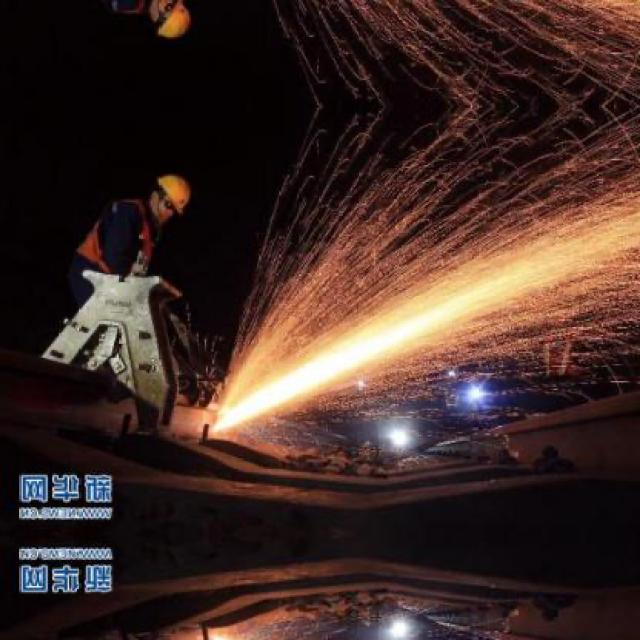helmet: (143, 171, 195, 221), (142, 0, 196, 43)
